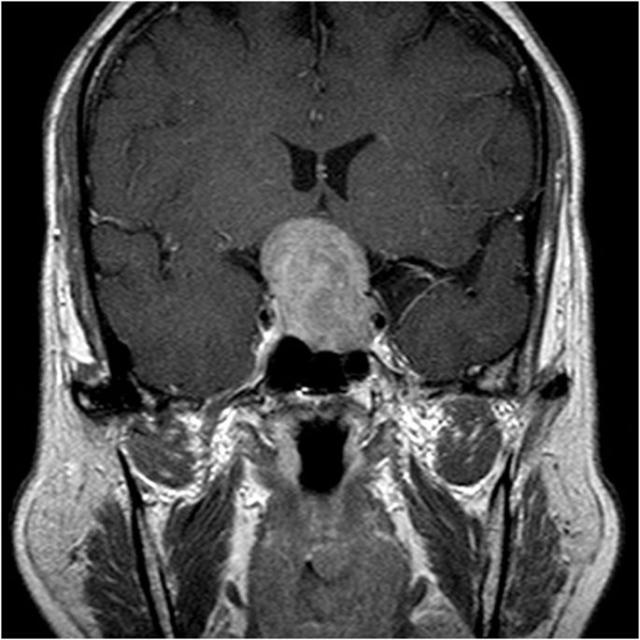brain_tumor: (260, 221, 386, 354)
